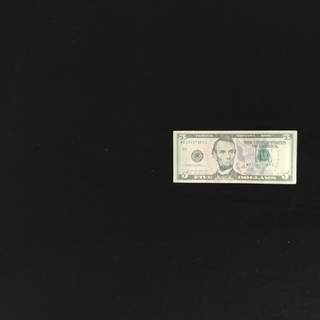5USDFront: (172, 130, 298, 185)
